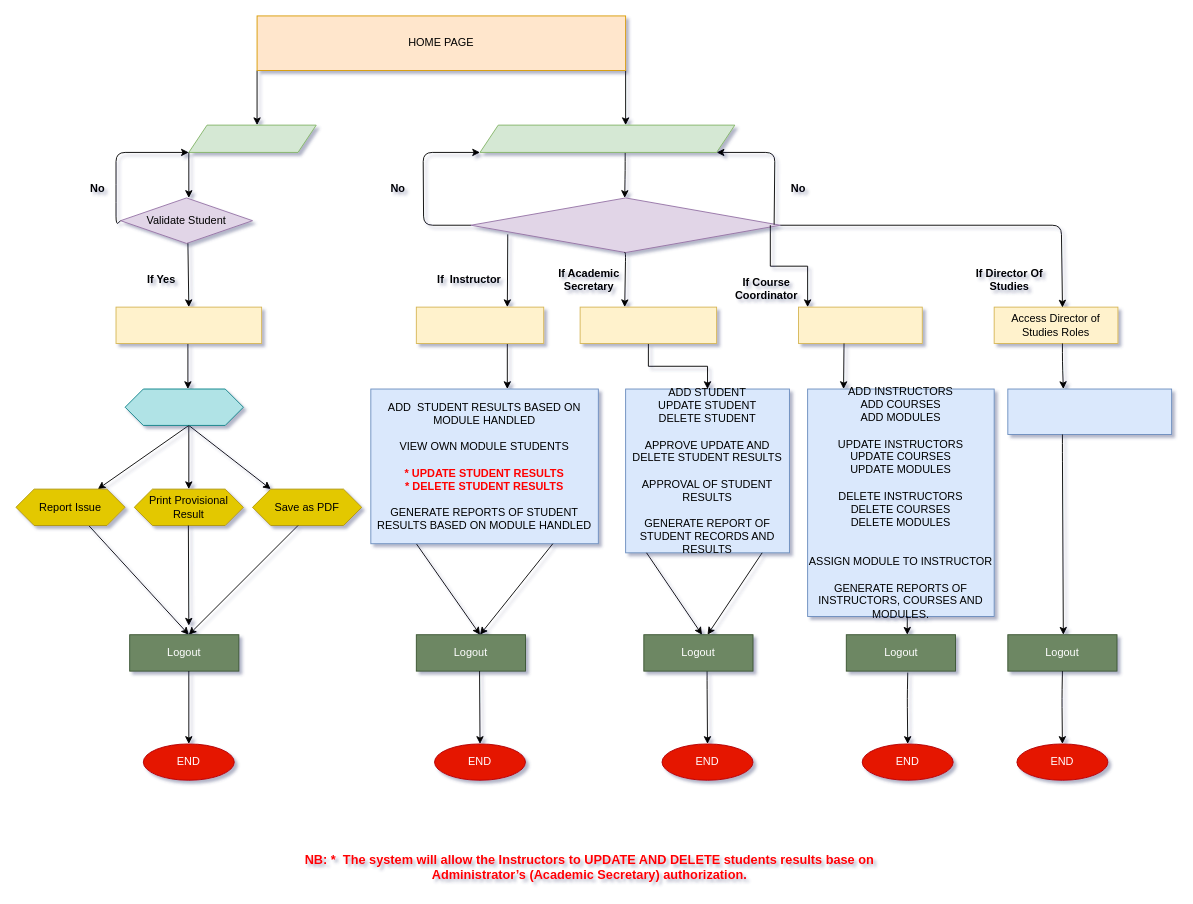
Image size: 1193x904. Some labels were removed from this diagram. The centre of each missing label's shape, as x and y in pixels:
"Access Academic Secretary Roles" goes at (x=648, y=325).
"Access Course Coordinator Roles" goes at (x=860, y=325).
"Access Instructor Roles" goes at (x=479, y=325).
"Access Module Results Currently Undertaken" goes at (x=188, y=325).
"APPROVAL OF STUDENT RESULTS" goes at (x=1089, y=411).
"Perform Action(s)" goes at (x=183, y=406).
"Staff Login" goes at (x=607, y=138).
"Student Login" goes at (x=252, y=138).
"Validate Staff" goes at (x=625, y=225).
